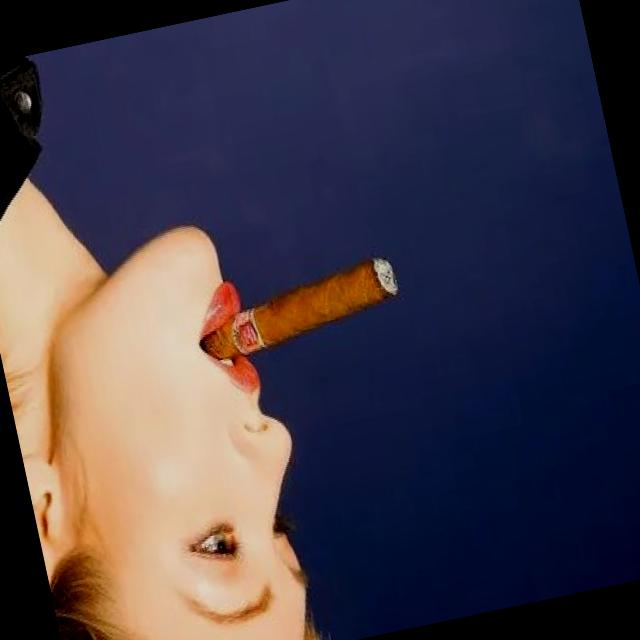smoke: (187, 243, 416, 381)
